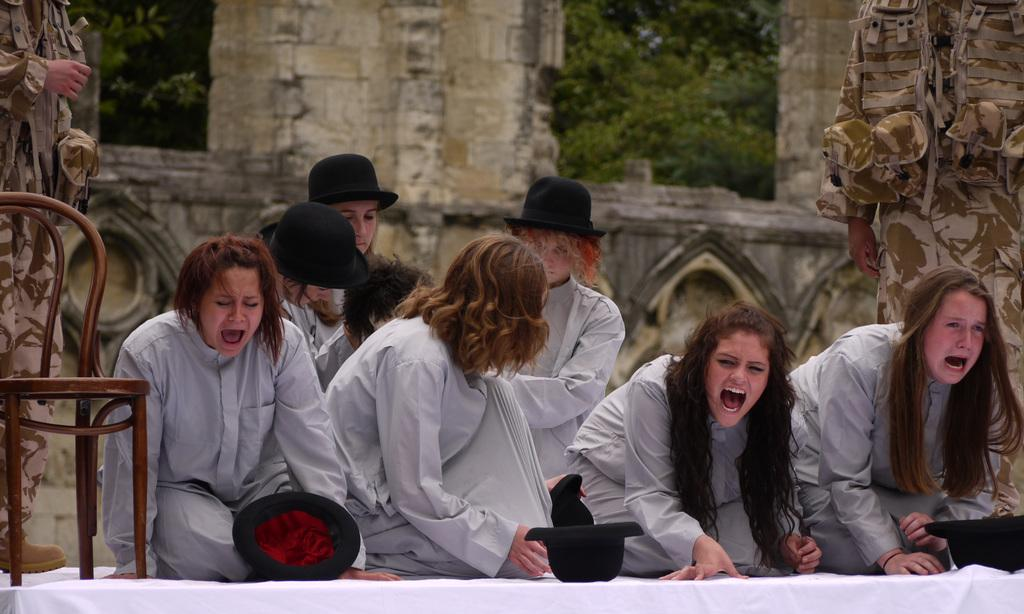Hat: (248, 203, 372, 284), (502, 177, 606, 236), (308, 154, 398, 214)
